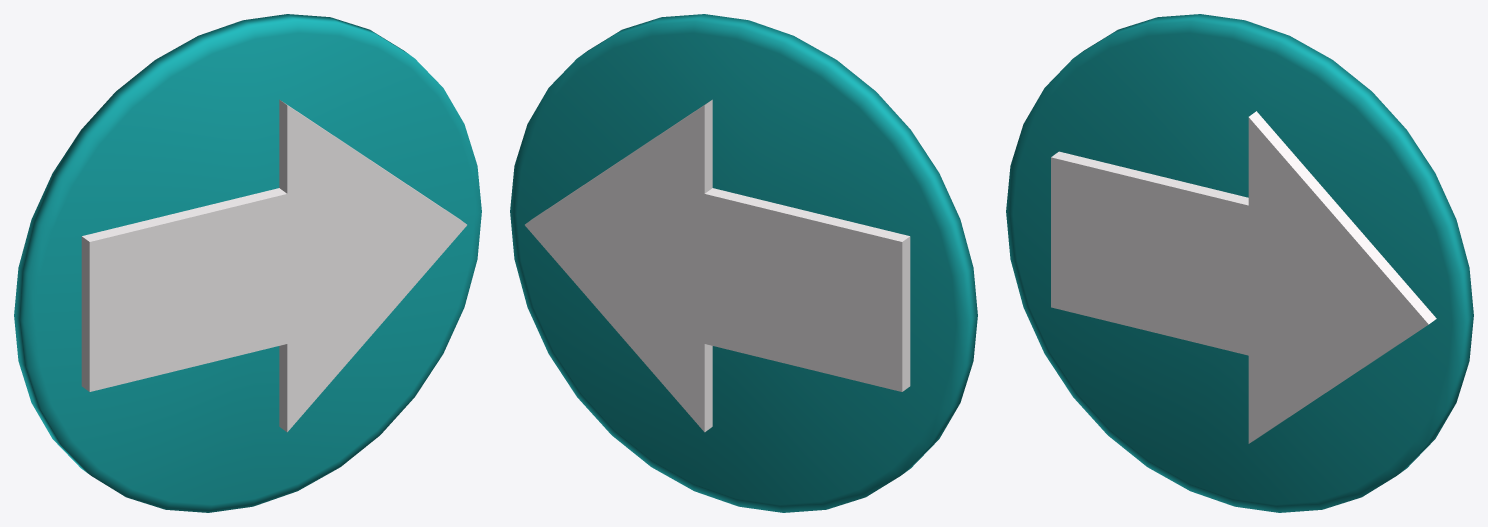
File: Arrow.gltf
3 views of the same model, side by side, from view 1: azimuth 30°, elevation 25°; view 2: azimuth 150°, elevation 25°; view 3: azimuth 330°, elevation 25° (orthographic).
Visible parts, largest first — view 1: Arrow; view 2: Arrow; view 3: Arrow.
Boxes of the visible parts, box(x1,y1,x2,y2) form: Arrow: box(14, 14, 481, 512); Arrow: box(510, 14, 977, 512); Arrow: box(1006, 14, 1473, 512).
Size of the model in its own units: 2.53 by 2.53 by 0.2945.
